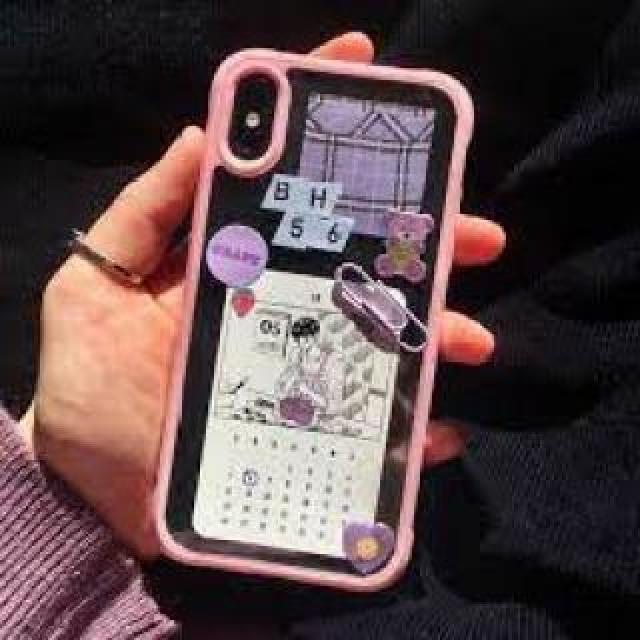smart phone: (165, 20, 433, 607)
